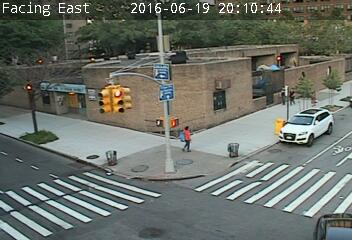neg: (14, 85, 43, 122), (156, 73, 182, 108), (81, 93, 103, 122), (119, 82, 141, 111), (62, 47, 83, 74)
pos: (176, 123, 199, 154), (286, 87, 300, 106), (276, 88, 289, 105)
